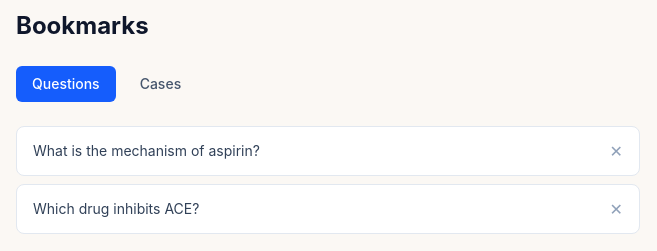
BookmarksPage › shows case bookmarks when Cases tab clicked
Check: the text "What is the mechanism of aspirin?" is shown, box [33,142,260,159]
Click the button "Cases": (160, 84) [124,66,197,102]
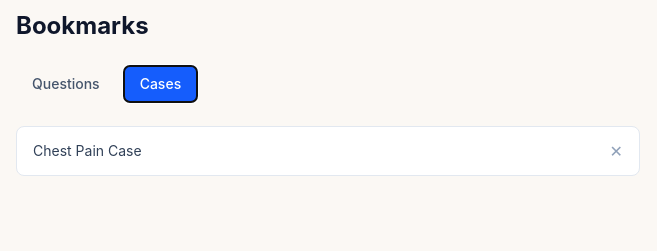
Check: the text "Chest Pain Case" is shown, box [33,142,142,159]
